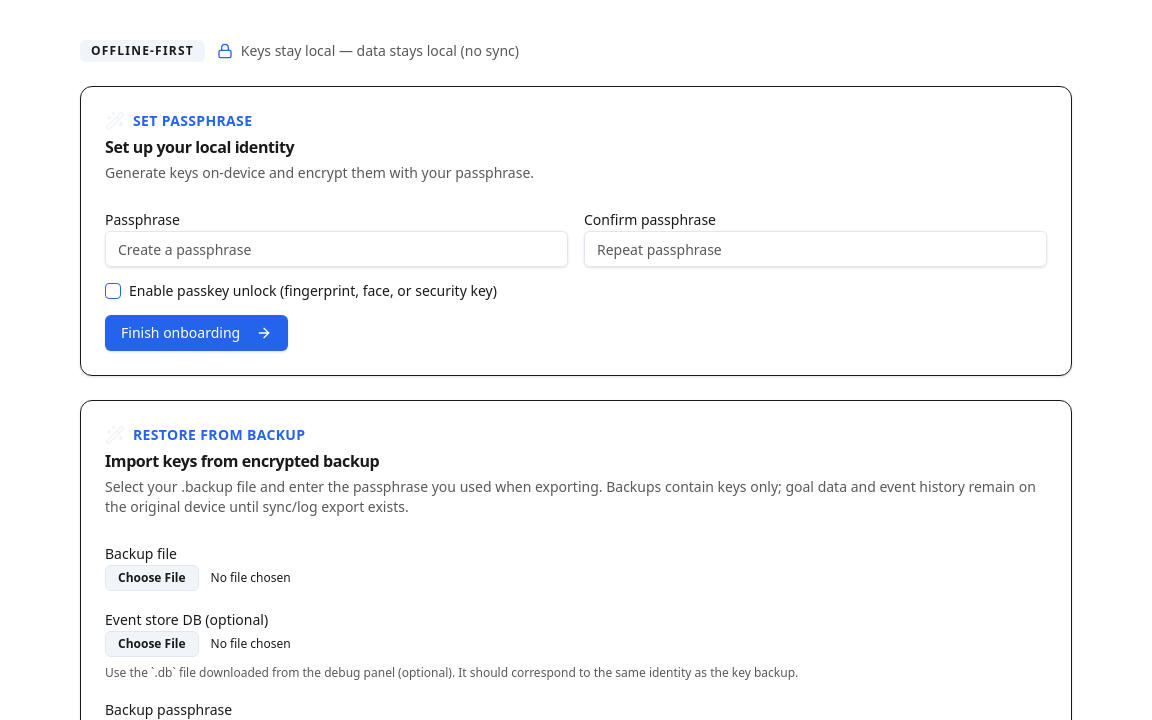
Scenario: Onboarding › validates password length and mismatch
Type "short" into the password field with placeholder "Create a passphrase" at (336, 249), box [105,231,568,267]
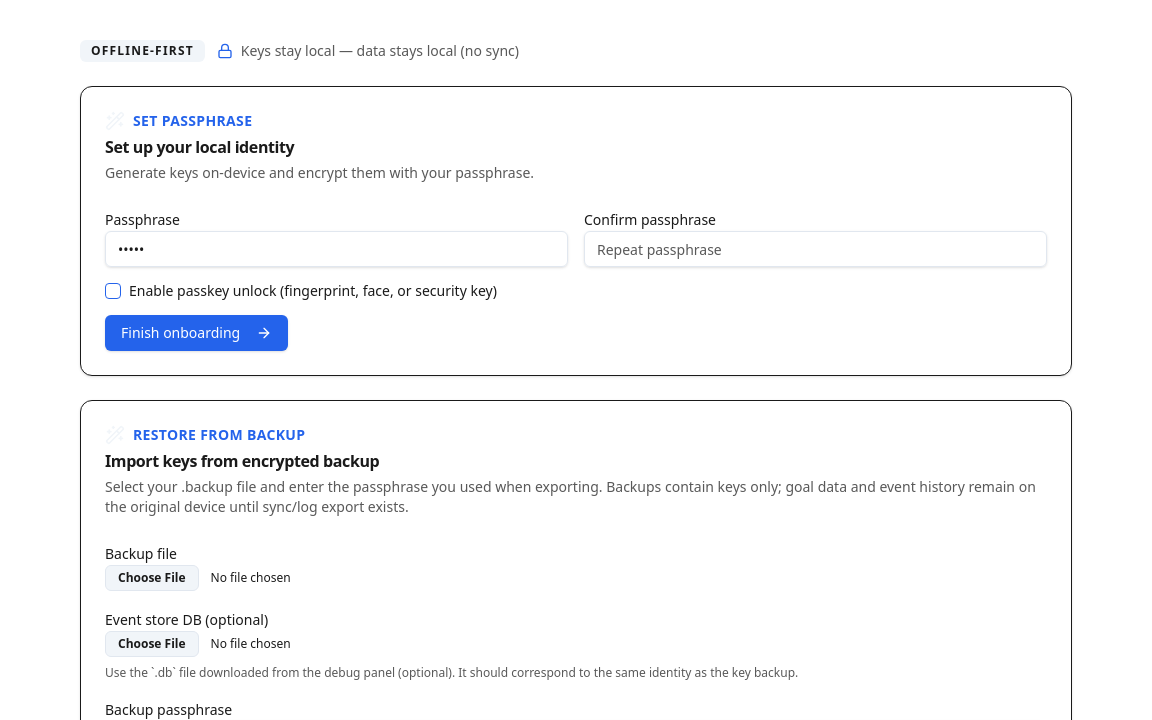
Type "short" into the password field with placeholder "Repeat passphrase" at (816, 249), box [584,231,1047,267]
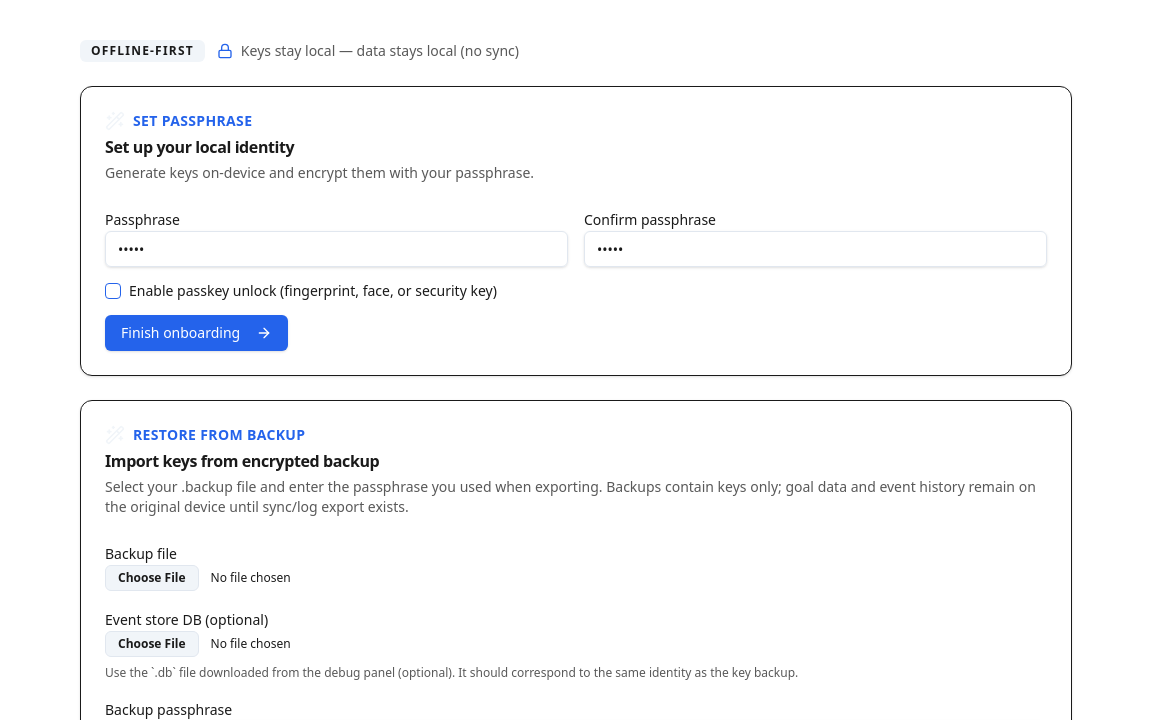
Click the button "Finish onboarding" at (197, 333), box [105,315,288,351]
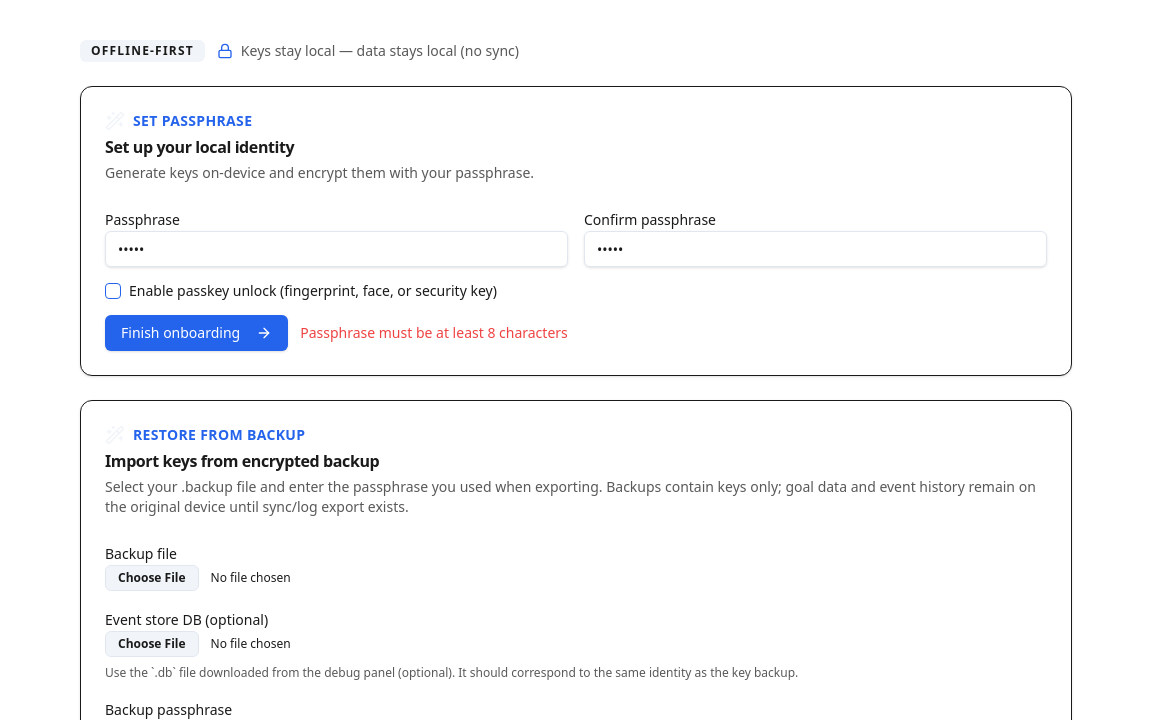
Now the text "Passphrase must be at least 8 characters" is shown, box [300,323,568,343]
Type "longpassword" into the 1st password field with placeholder "Create a passphrase" at (336, 249), box [105,231,568,267]
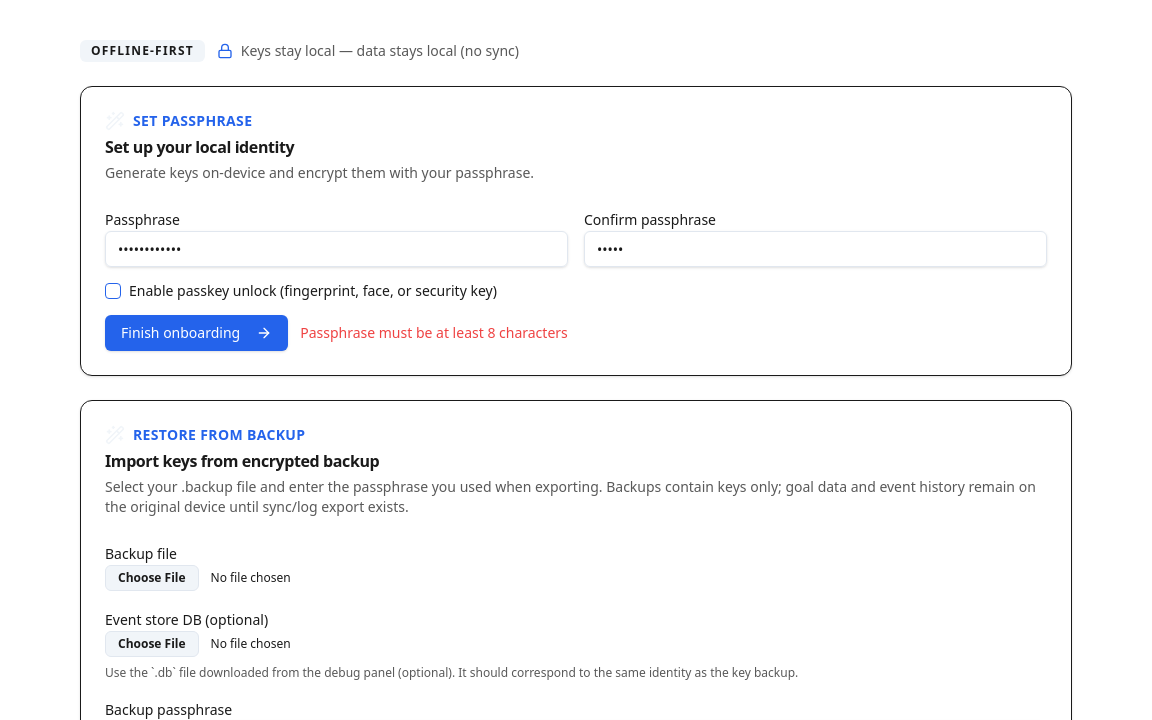
Type "mismatch" into the password field with placeholder "Repeat passphrase" below "Confirm passphrase" at (816, 249), box [584,231,1047,267]
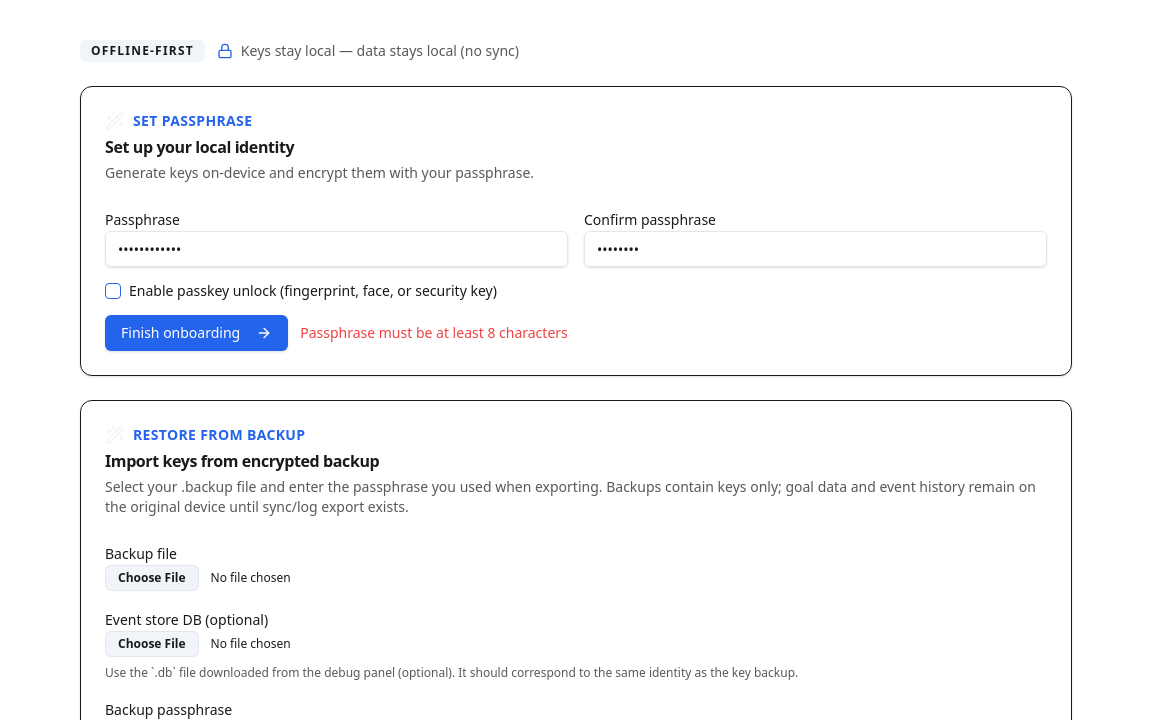
Click the button "Finish onboarding" at (197, 333), box [105,315,288,351]
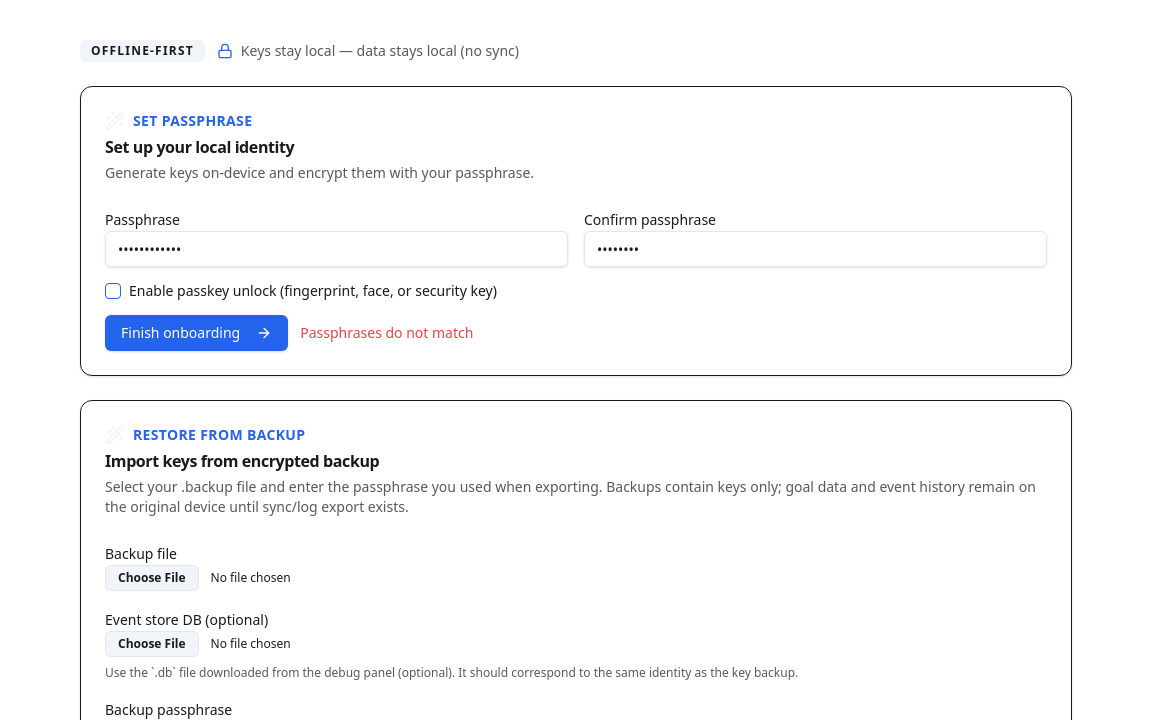
Now the text "Passphrases do not match" is shown, box [300,323,473,343]
